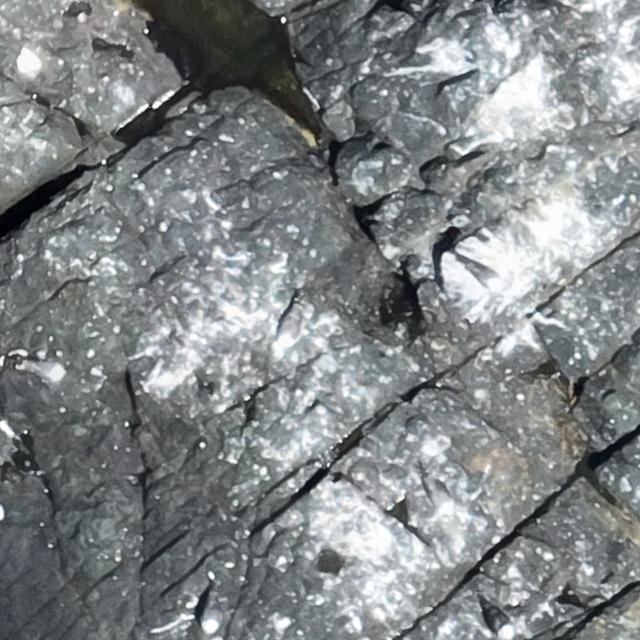umineko: (423, 472, 454, 518), (278, 300, 305, 347), (21, 359, 67, 382), (203, 592, 222, 635), (488, 608, 513, 636), (472, 265, 498, 286)
